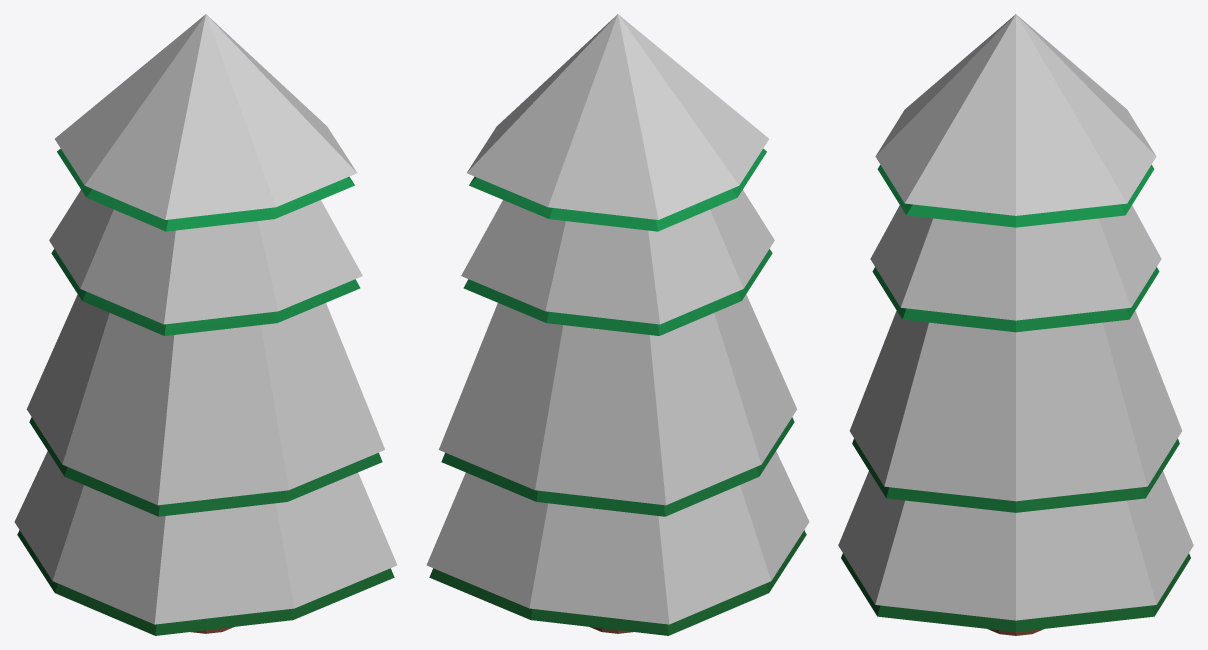
File: Tree_22_winter_gradient_green_vc.fbx
3 views of the same model, side by side, from view 1: azimuth 30°, elevation 25°; view 2: azimuth 150°, elevation 25°; view 3: azimuth 270°, elevation 25° (orthographic).
Parts seen in each view (by area): view 1: Tree_22_winter_gradient_green_vc; view 2: Tree_22_winter_gradient_green_vc; view 3: Tree_22_winter_gradient_green_vc.
Part boxes in pixels (x1=…): Tree_22_winter_gradient_green_vc: x1=14, y1=14, x2=397, y2=635; Tree_22_winter_gradient_green_vc: x1=426, y1=14, x2=809, y2=635; Tree_22_winter_gradient_green_vc: x1=838, y1=14, x2=1193, y2=635.
Size of the model in its own units: 84.01 by 159 by 84.01.
